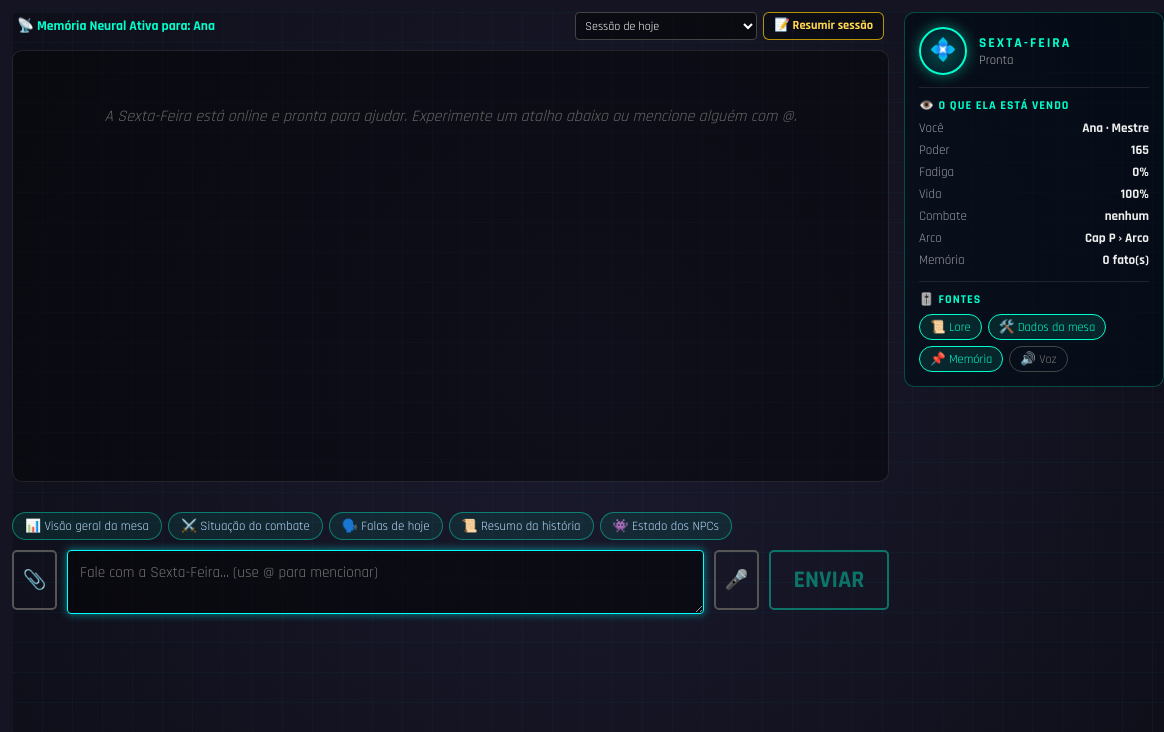
Test: CartaoProposta - Mestre › Aplicar grava na ficha e mostra Aplicada
The width and height of the screenshot is (1164, 732).
In the text box named "Mensagem para a Sexta-Feira": [386, 582] box [67,550,704,614], type "crie algo"
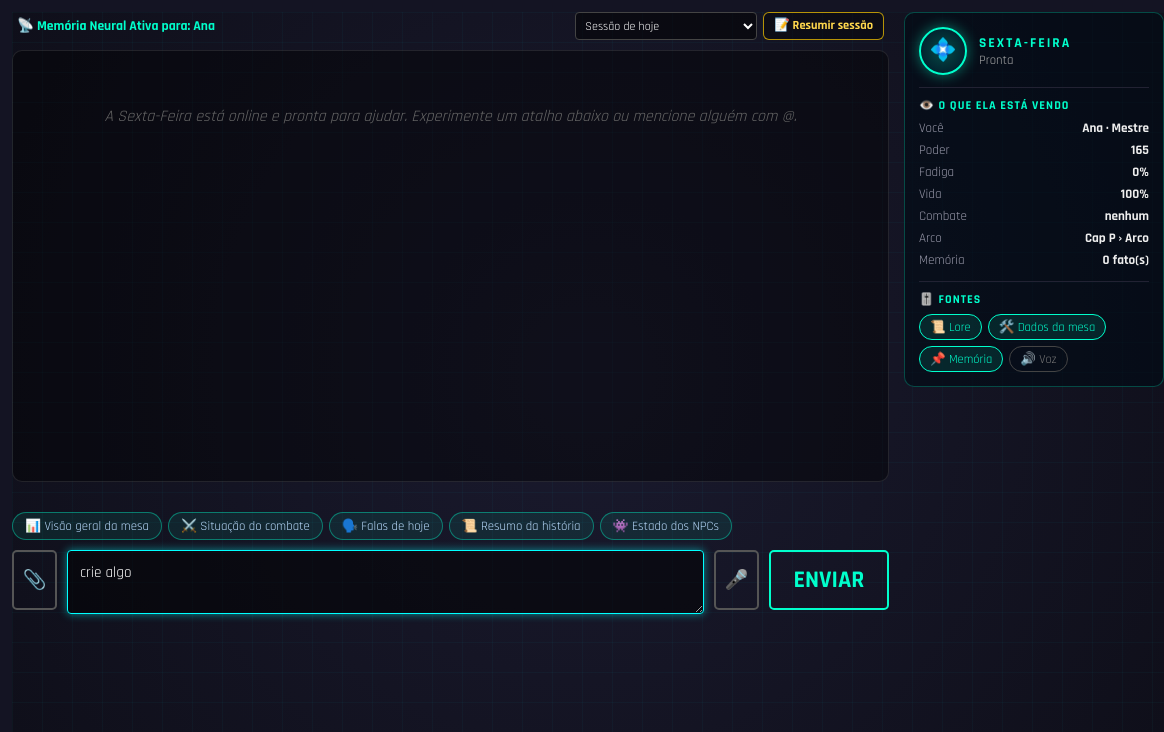
Click the button "ENVIAR": [829, 580] box [769,550,889,610]
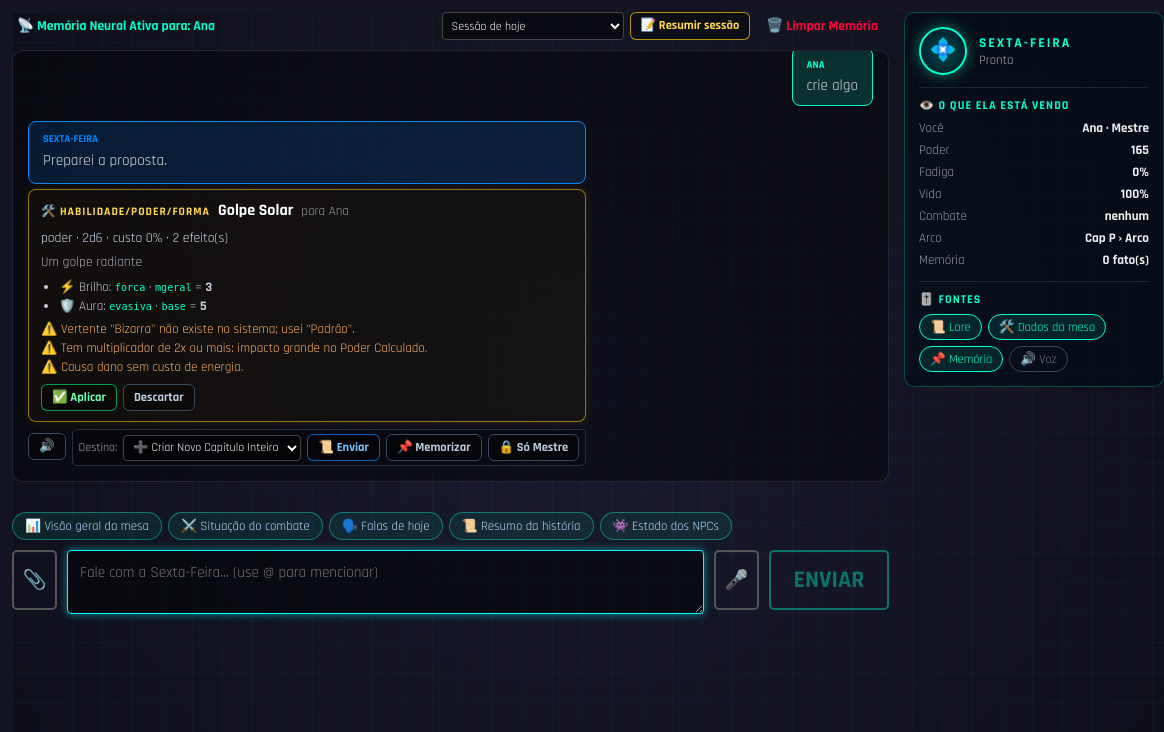
Now the element with class "sexta-criacao" is shown, box [28,189,586,422]
Click the button "✅ Aplicar": [79, 397] box [41,384,117,411]
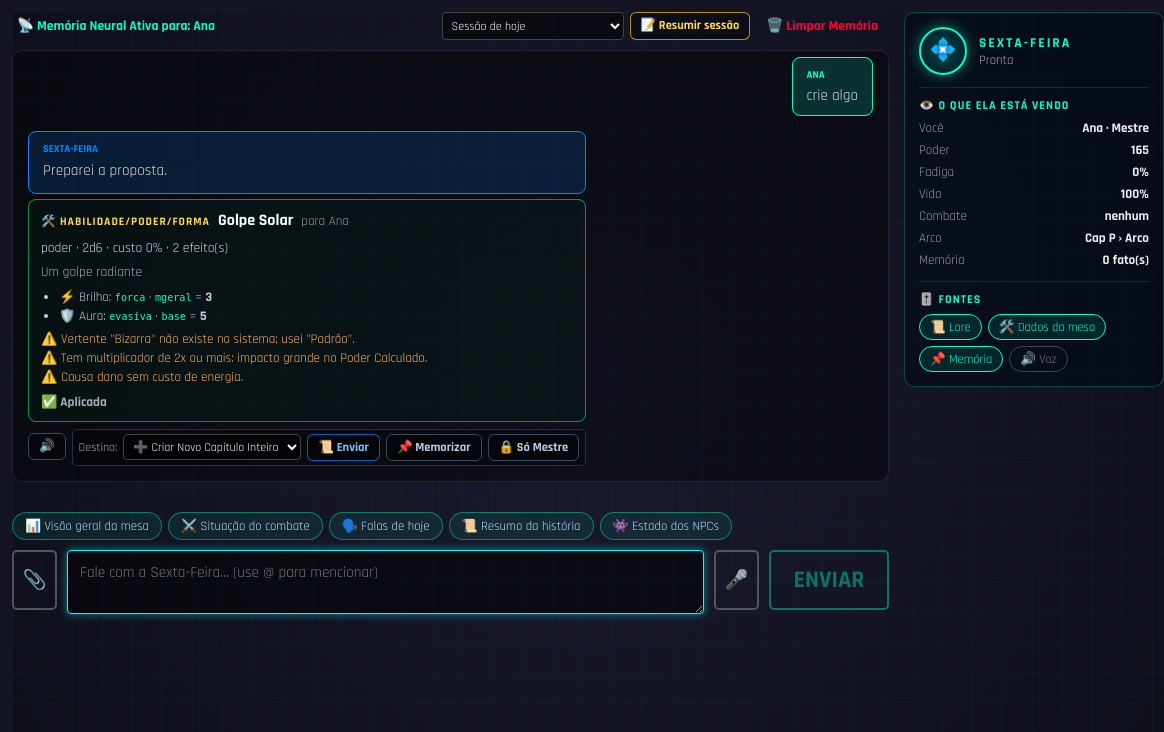
Now the button "✅ Aplicar" is gone
